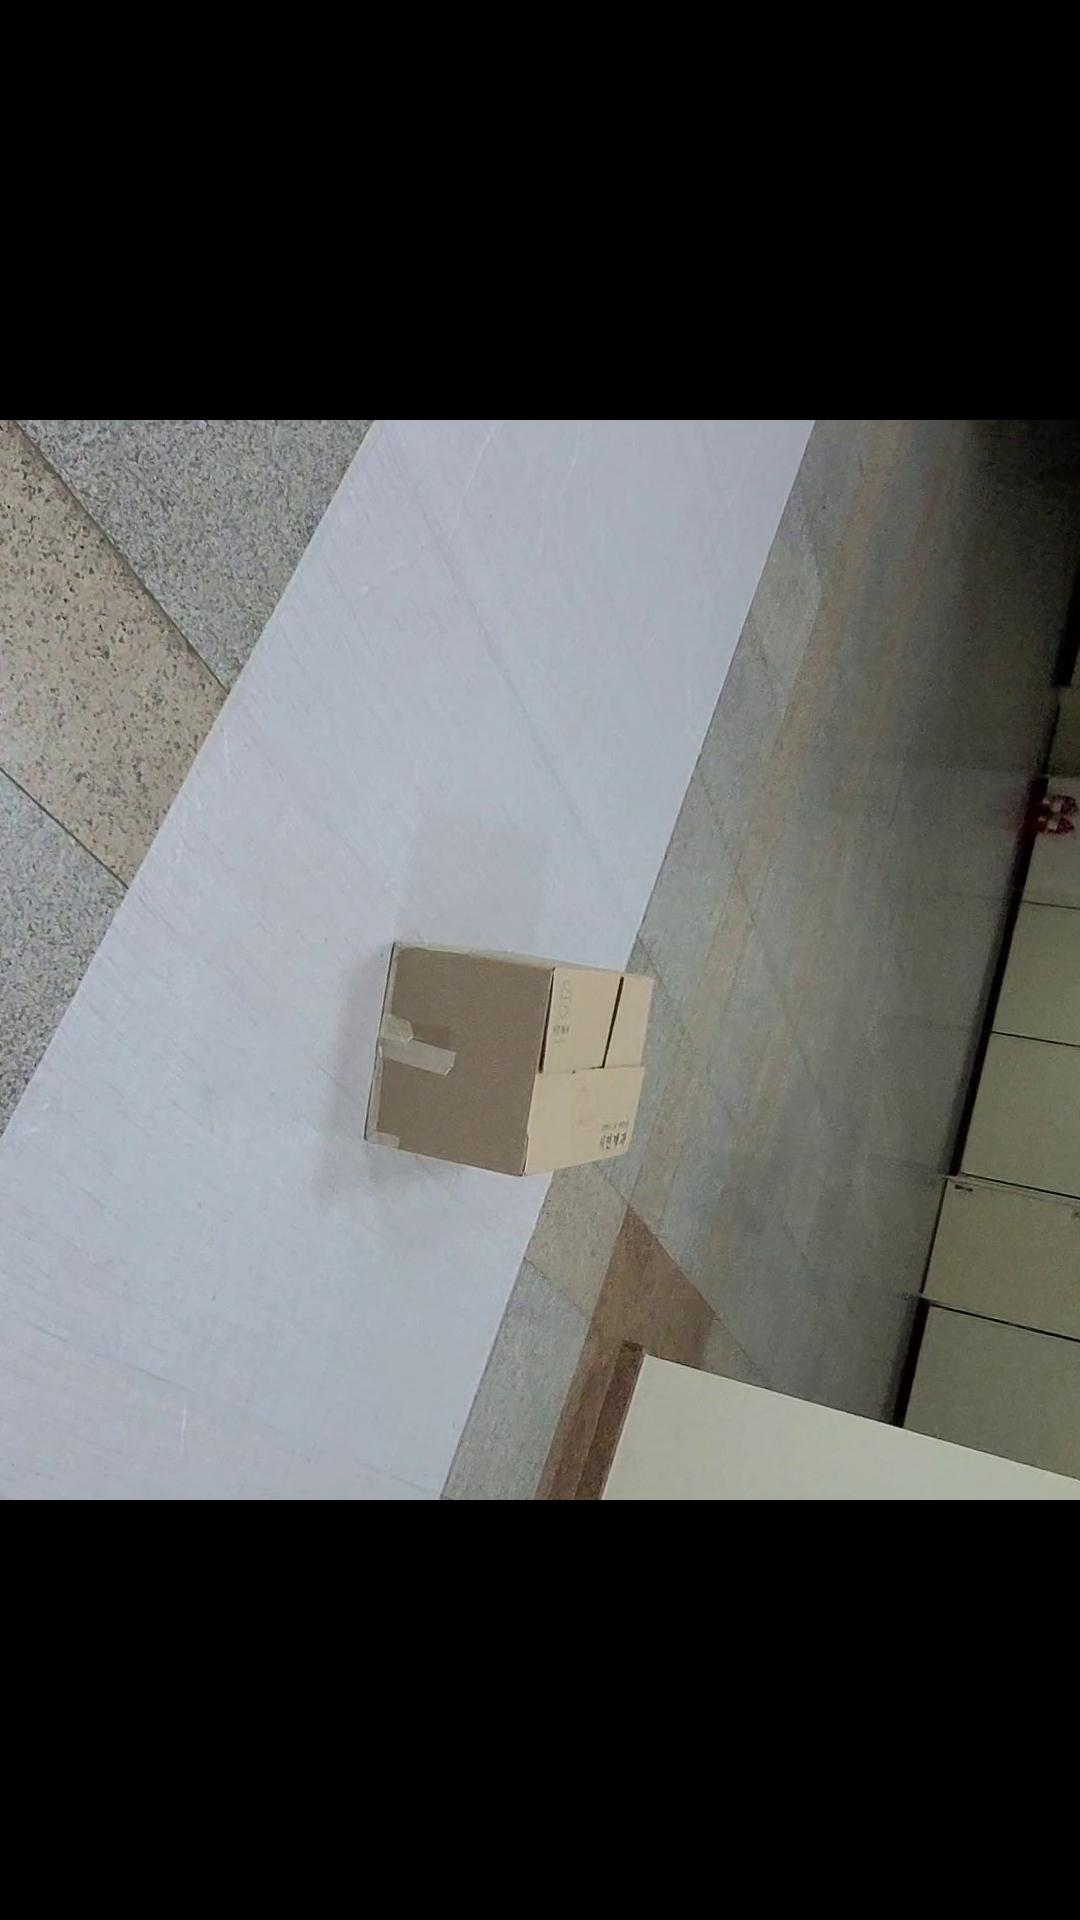Box: (357, 928, 665, 1192)
